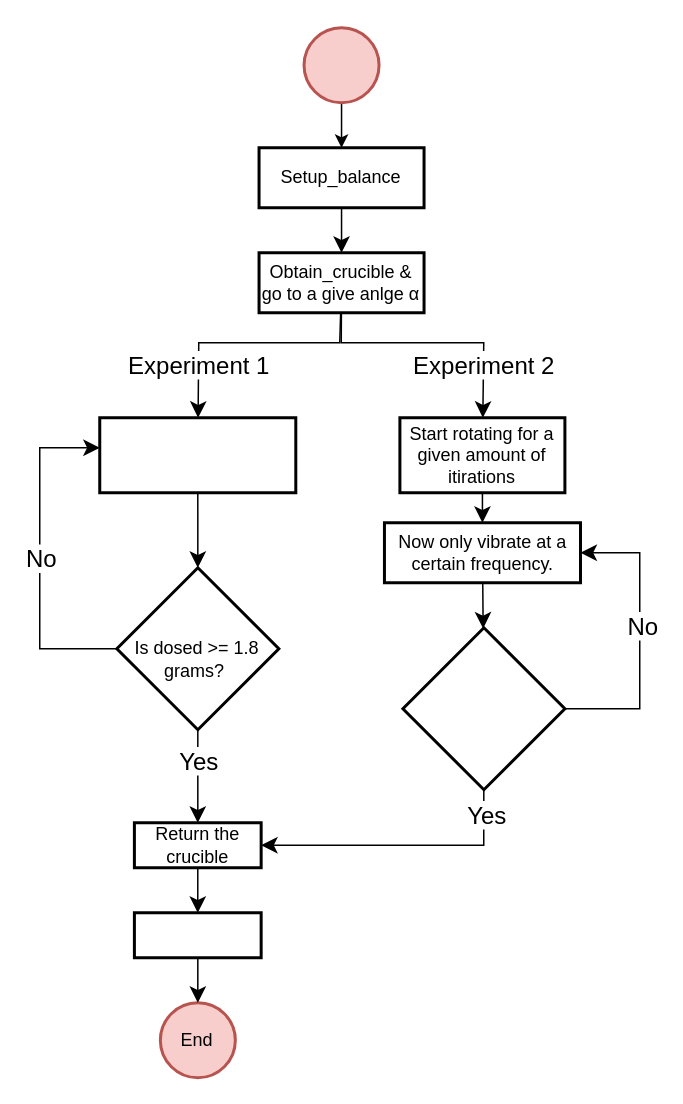
The diagram is 683 pixels wide and 1104 high, and some of its shapes have lost their labels. Each missing label, with the centre of its shape:
Is dosed >= 1.0 grams?: point 483,708
Start: point 341,65
Start rotateing joint6 only with a give speed for a give pulse period: point 197,455
Unset the balance: point 197,934
